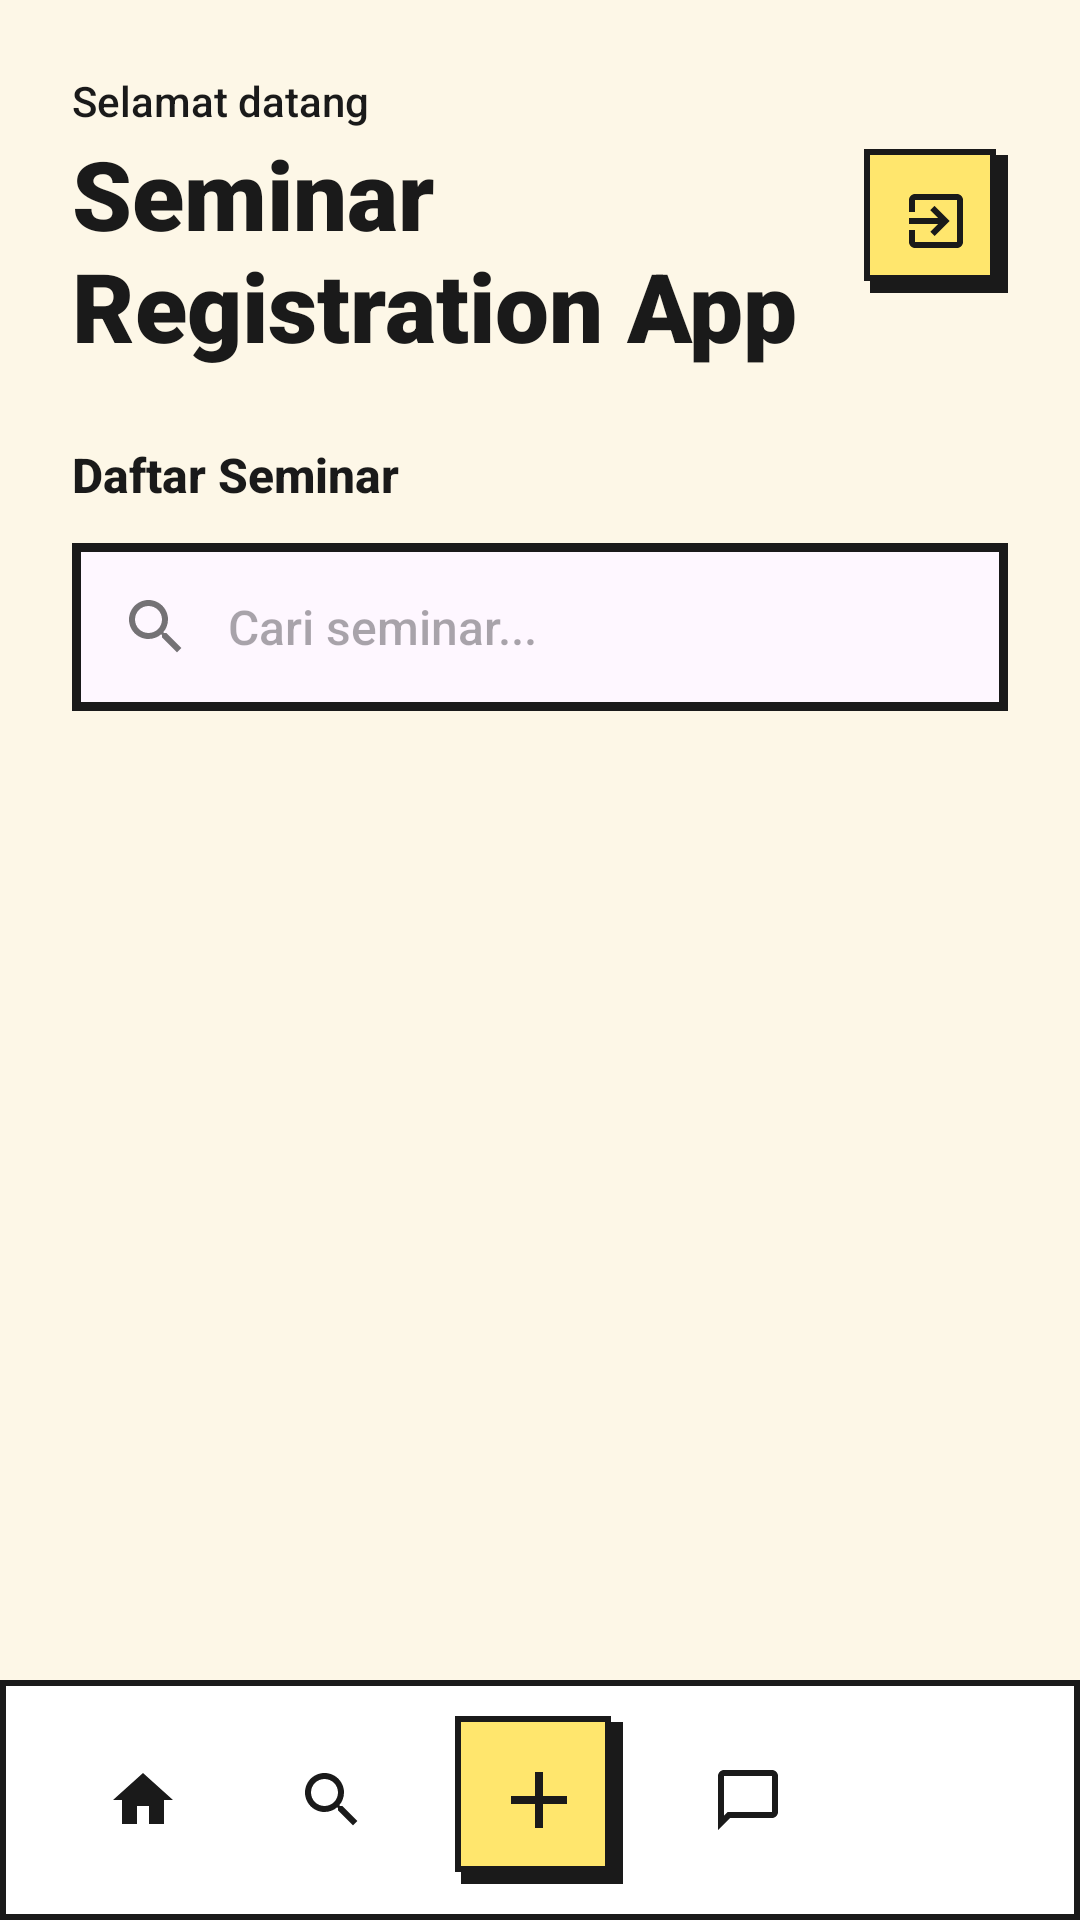

Icon click points for this 1080×1920 phone screenshot, format [x,y]:
Add: [539,1800]
Chat: [748,1800]
Home: [143,1798]
search: [155,626], [331,1799]
